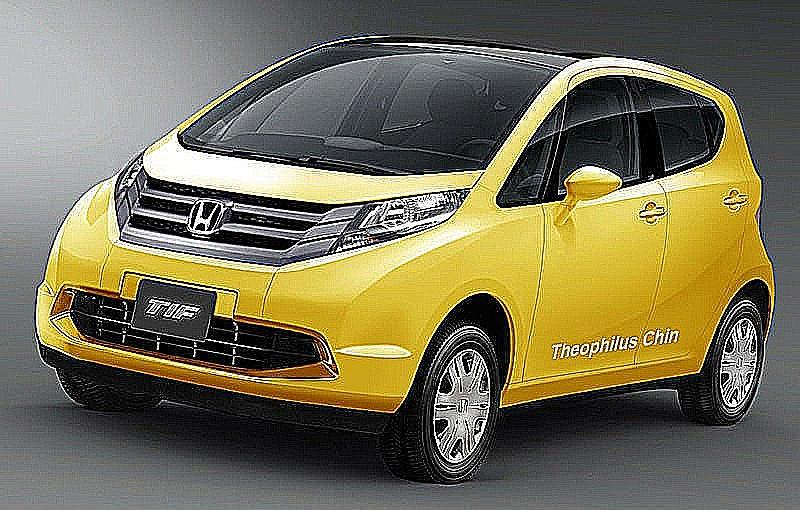Car hood: (125, 123, 485, 220)
Fender - -F-L-: (257, 177, 551, 389)
Front bumper: (30, 178, 452, 447)
Headlight - -L-: (324, 187, 471, 264)
Headlight - -R-: (109, 149, 153, 235)
Passenger-s door - -F-L-: (502, 43, 682, 402)
Passenger-s door - -R-L-: (622, 46, 754, 396)
Side bumper - -L-: (497, 307, 718, 438)
Side mirror - -L-: (550, 166, 623, 226)
